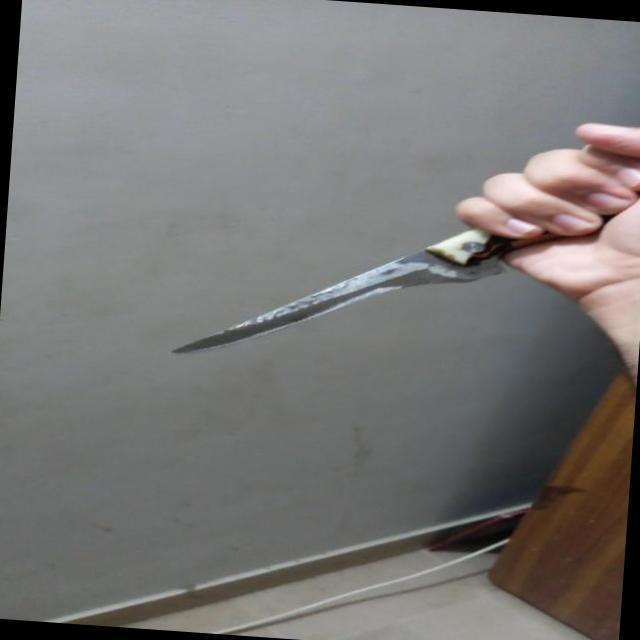Knife: (157, 177, 618, 390)
